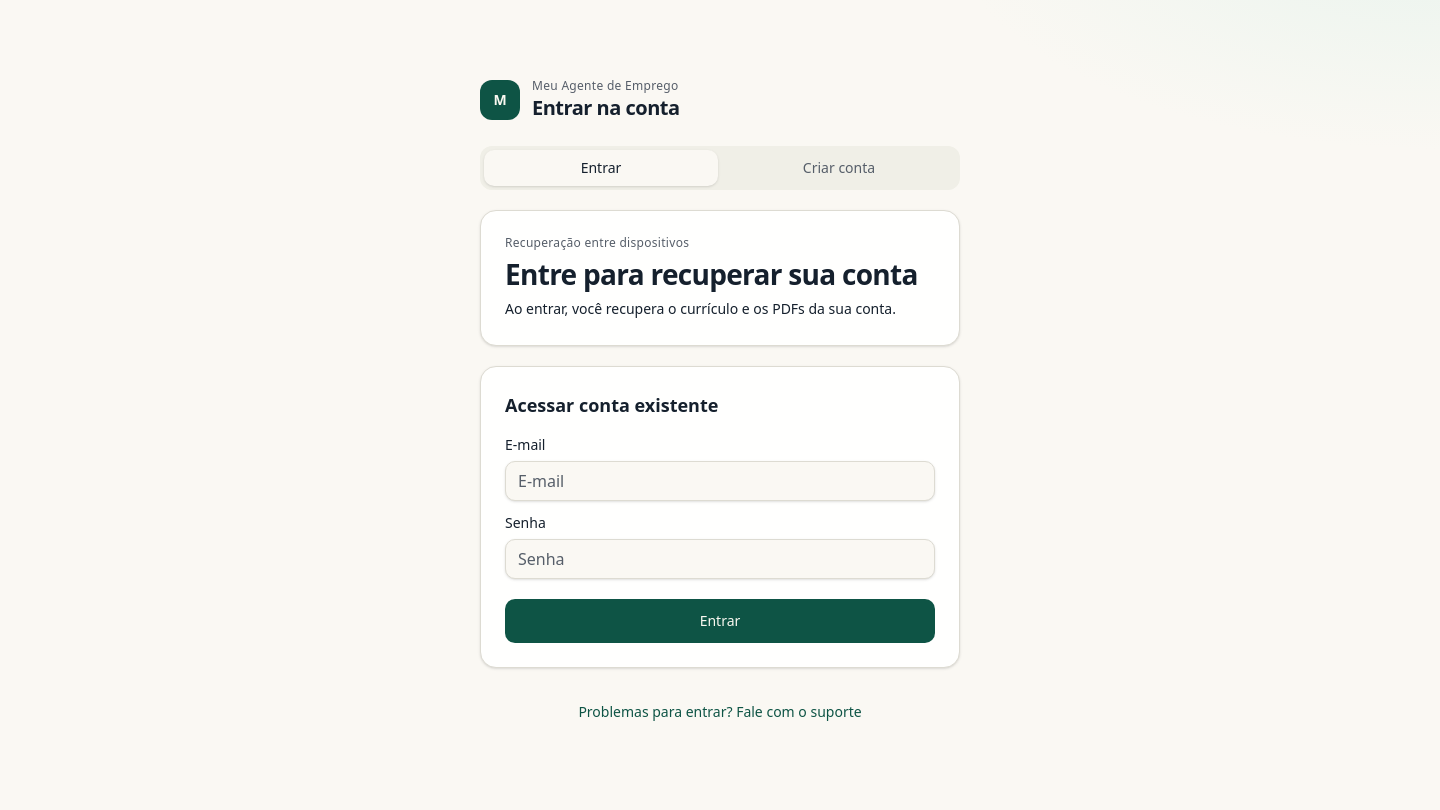
HomePage processar + cotas › 6b. 403 OUTDATED nao acessa status/processar (gate W1)
Type "ada@example.com" into the field with test id "login-email" at (720, 481), box top-left (505, 461), bottom-right (935, 501)
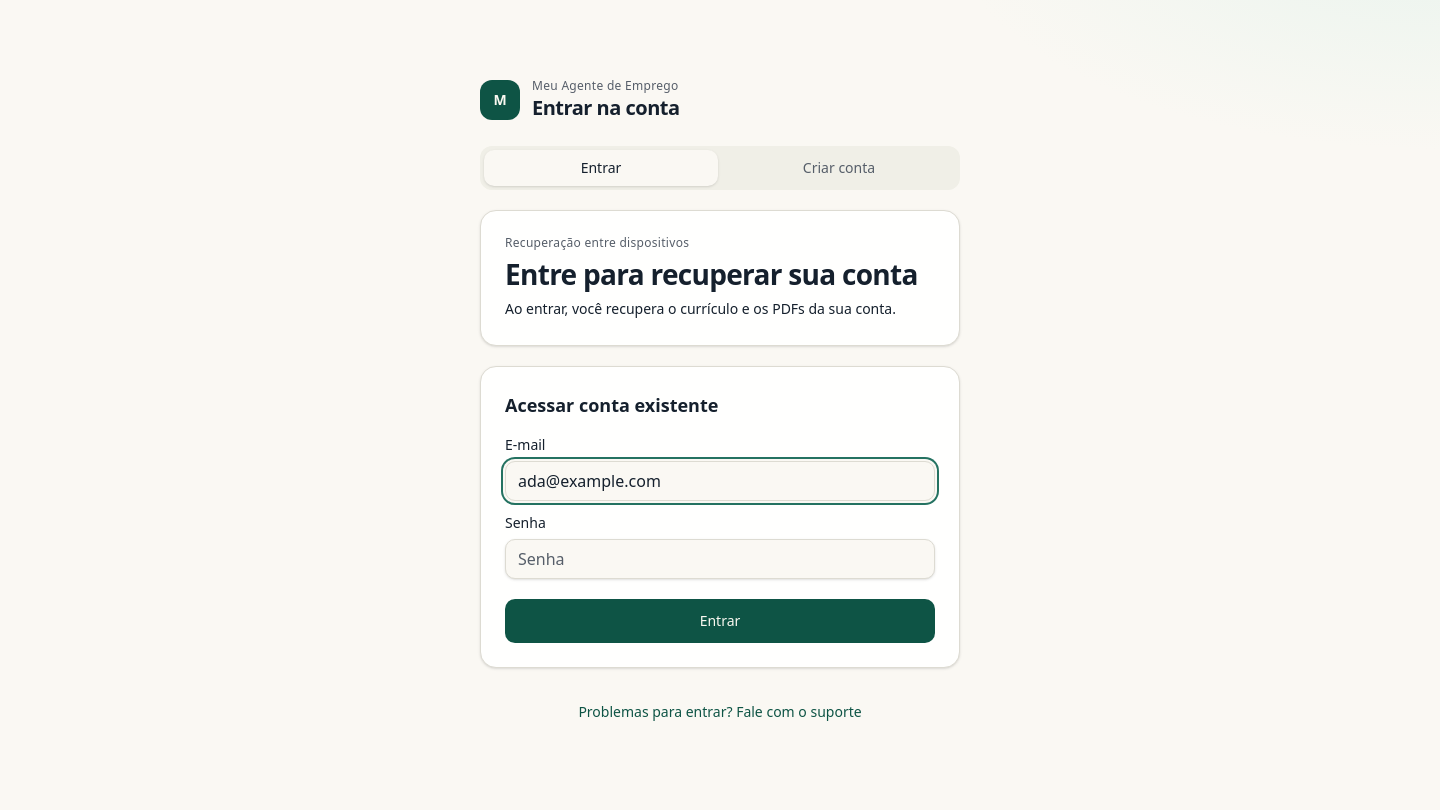
Type "senha-segura" into the password field with test id "login-password" at (720, 559), box top-left (505, 539), bottom-right (935, 579)
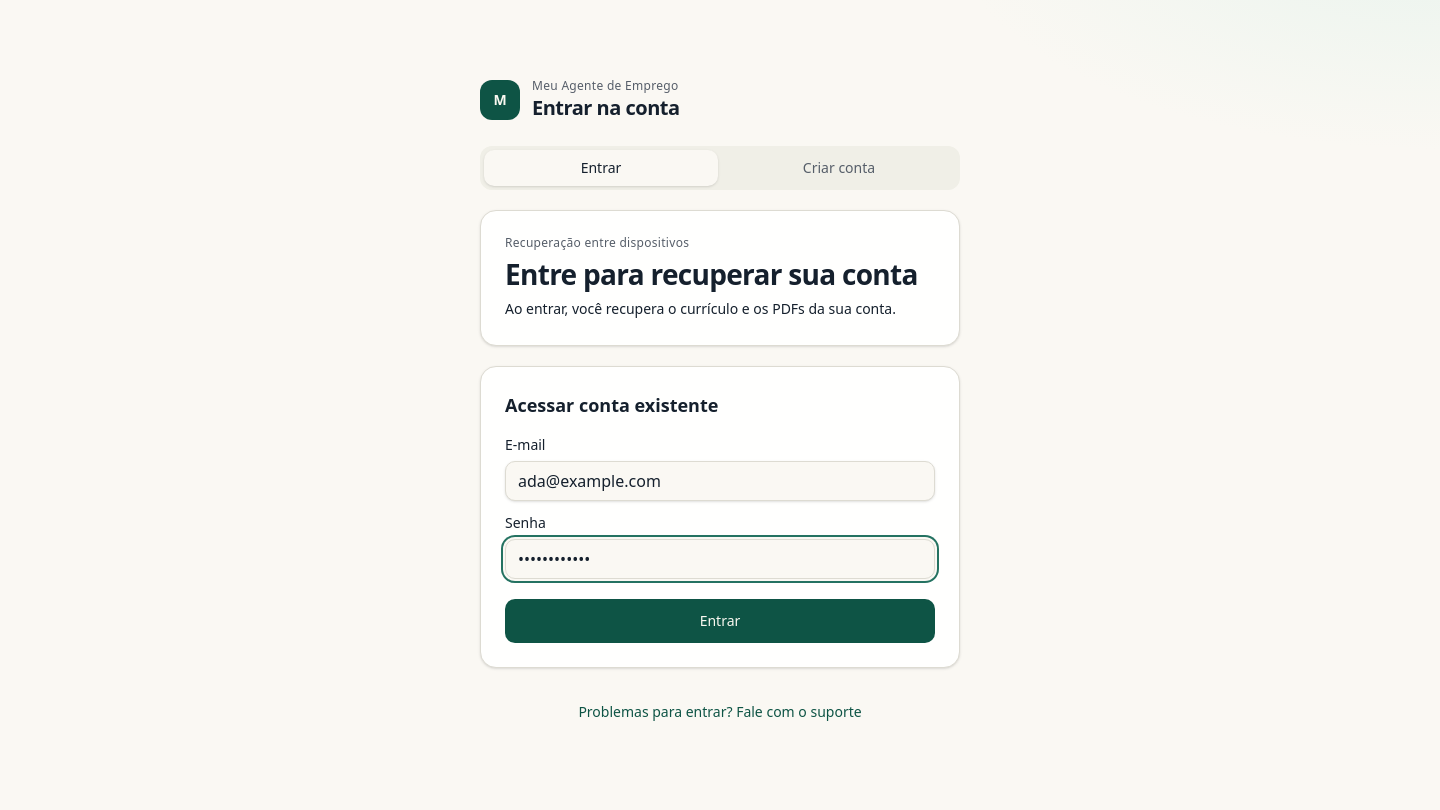
Click the button with test id "login-submit" at (720, 621), box top-left (505, 599), bottom-right (935, 643)
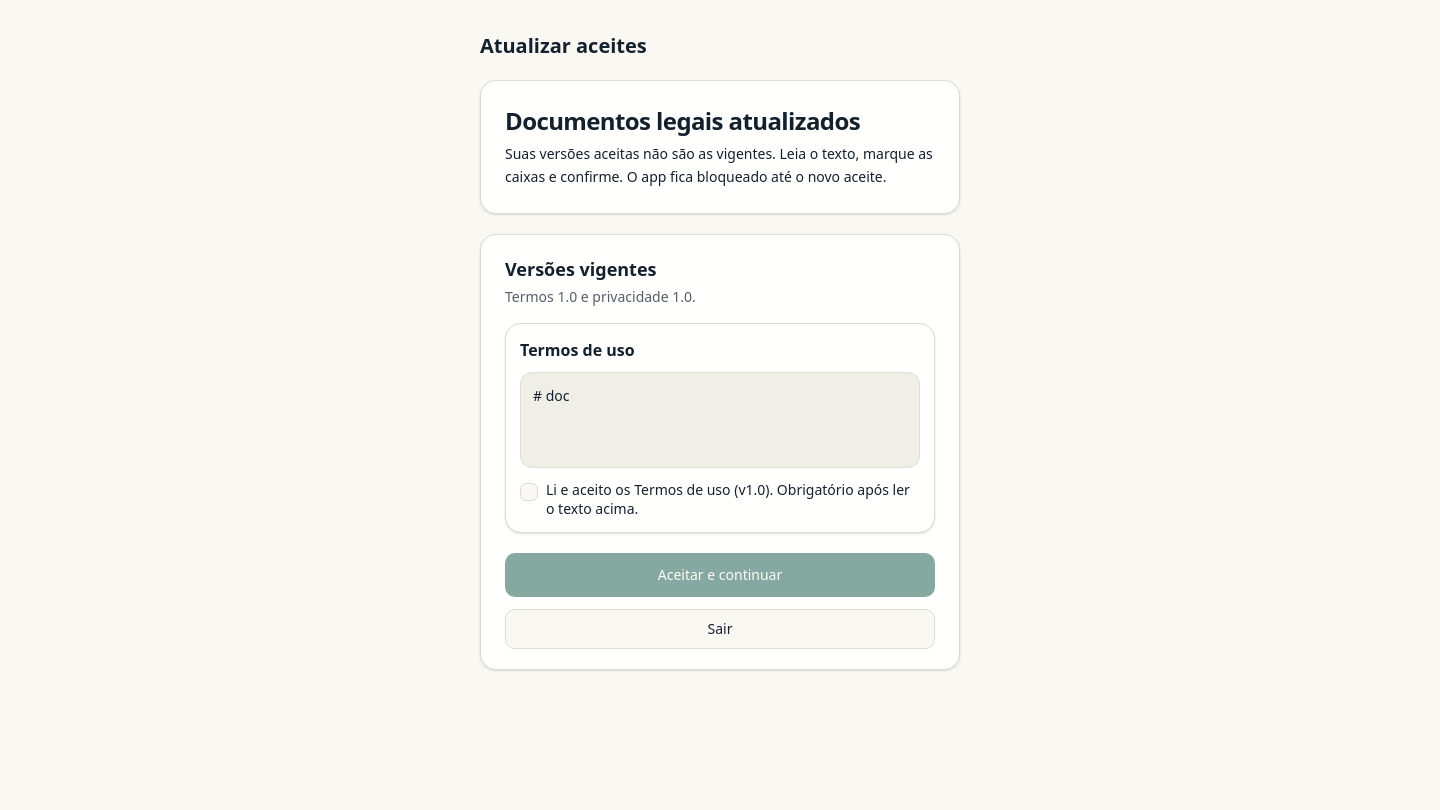
Expected: the dialog with test id "consent-gate" is shown
